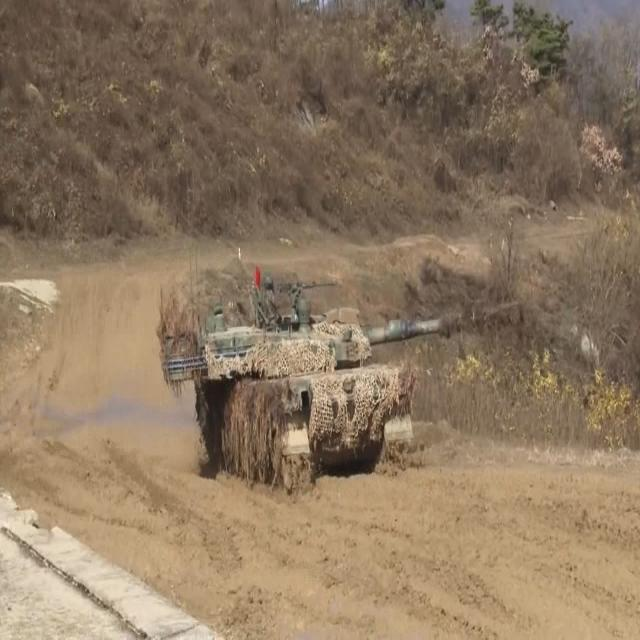korea tank: (155, 272, 527, 495)
